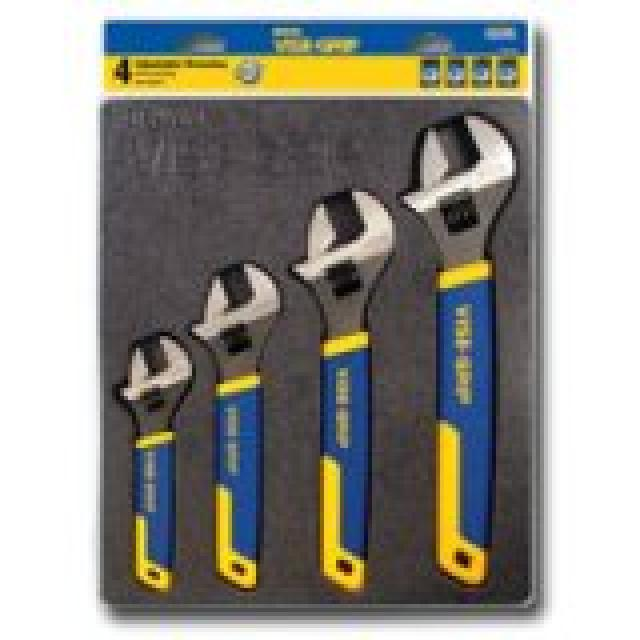wrench: (400, 112, 520, 589), (286, 182, 399, 596), (190, 254, 286, 596), (115, 330, 199, 597)
